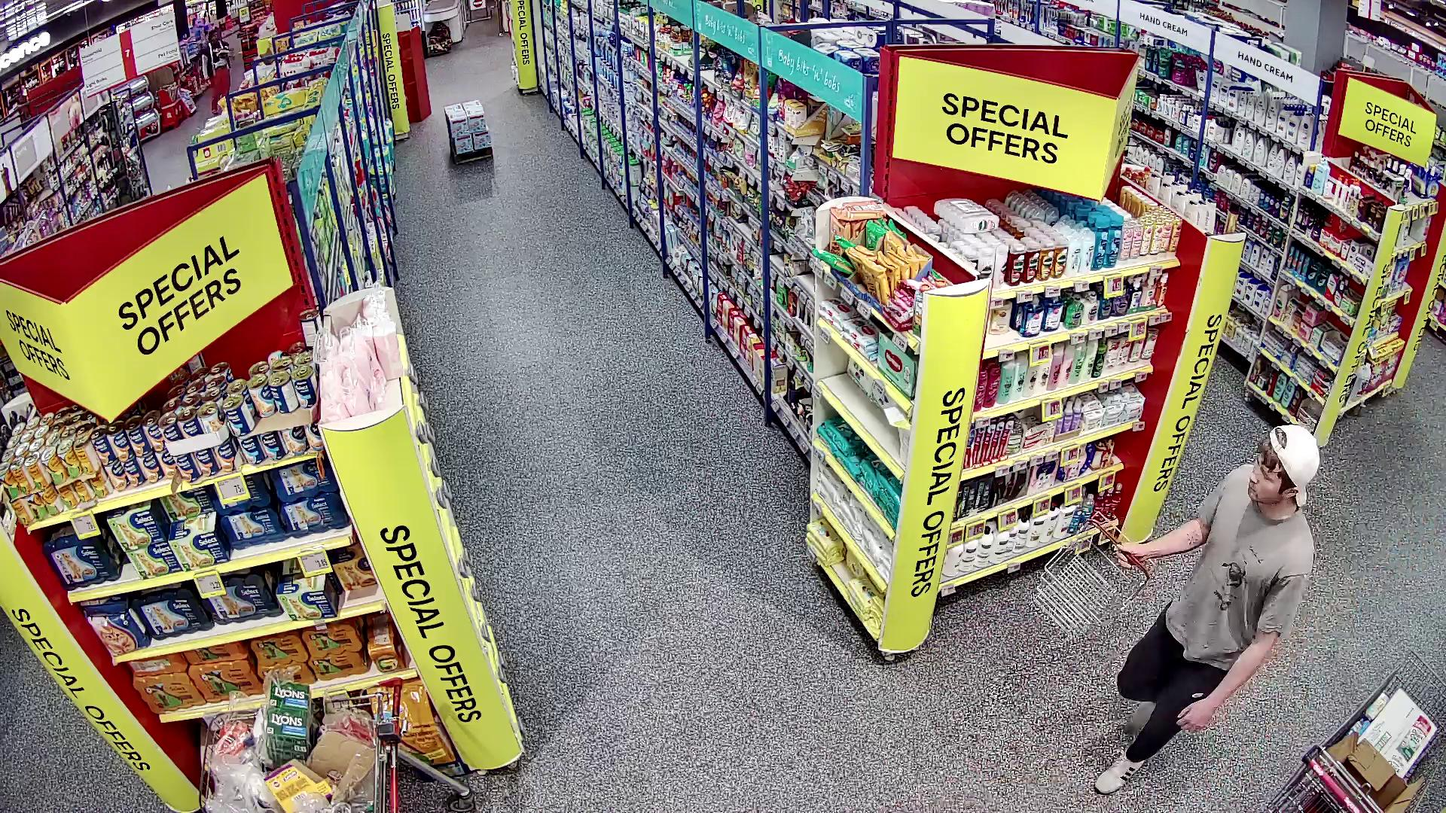empty-basket: (1031, 507, 1155, 640)
person: (1094, 426, 1322, 793)
person-with-empty-basket-trolly: (1032, 425, 1319, 795)
